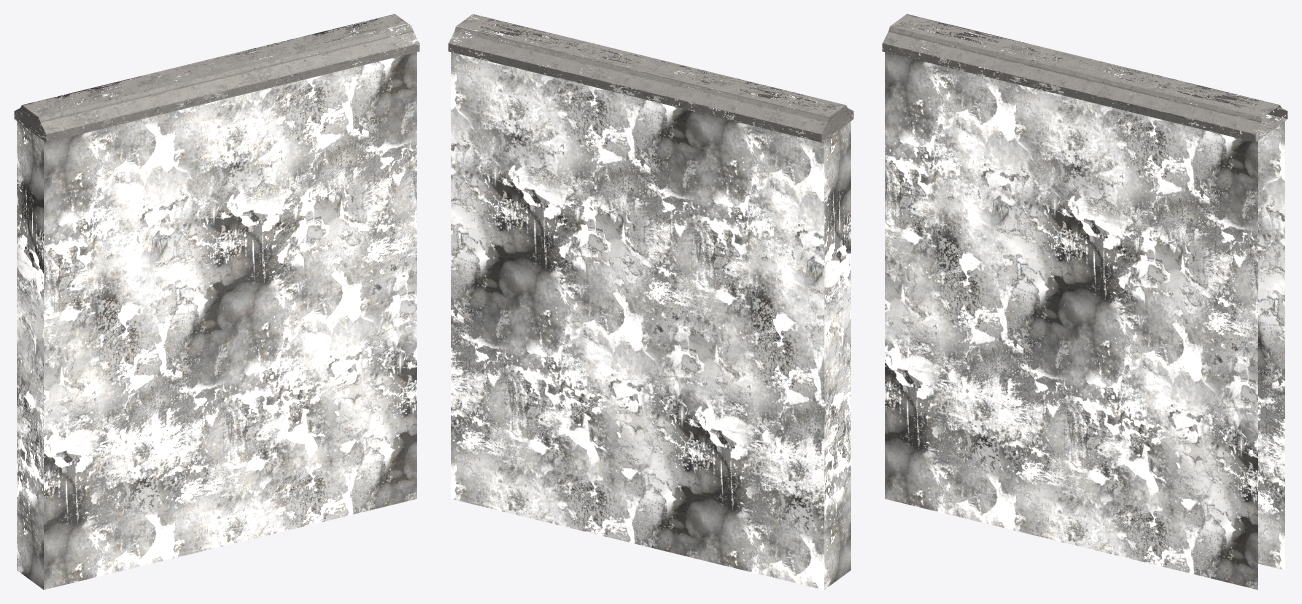
Rendered from SM_porch_parapet_03.fbx.
3 renders of one model, left to right at view 1: azimuth 30°, elevation 25°; view 2: azimuth 150°, elevation 25°; view 3: azimuth 330°, elevation 25°, orthographic.
Visible parts, largest first — view 1: SM_porch_parapet_03_LOD0; view 2: SM_porch_parapet_03_LOD0; view 3: SM_porch_parapet_03_LOD0.
Part boxes in pixels (left/top/right/bottom): SM_porch_parapet_03_LOD0: left=14, top=14, right=419, bottom=589; SM_porch_parapet_03_LOD0: left=448, top=14, right=853, bottom=589; SM_porch_parapet_03_LOD0: left=882, top=14, right=1287, bottom=589.
Size of the model in its own units: 200 by 29.6 by 240.
2 materials, 2 textured.
